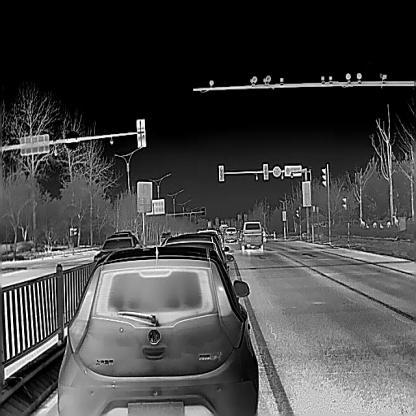car: (56, 246, 257, 415), (161, 233, 232, 273), (92, 234, 144, 262), (240, 220, 263, 251), (196, 228, 222, 249), (222, 226, 239, 243), (160, 231, 172, 243)
